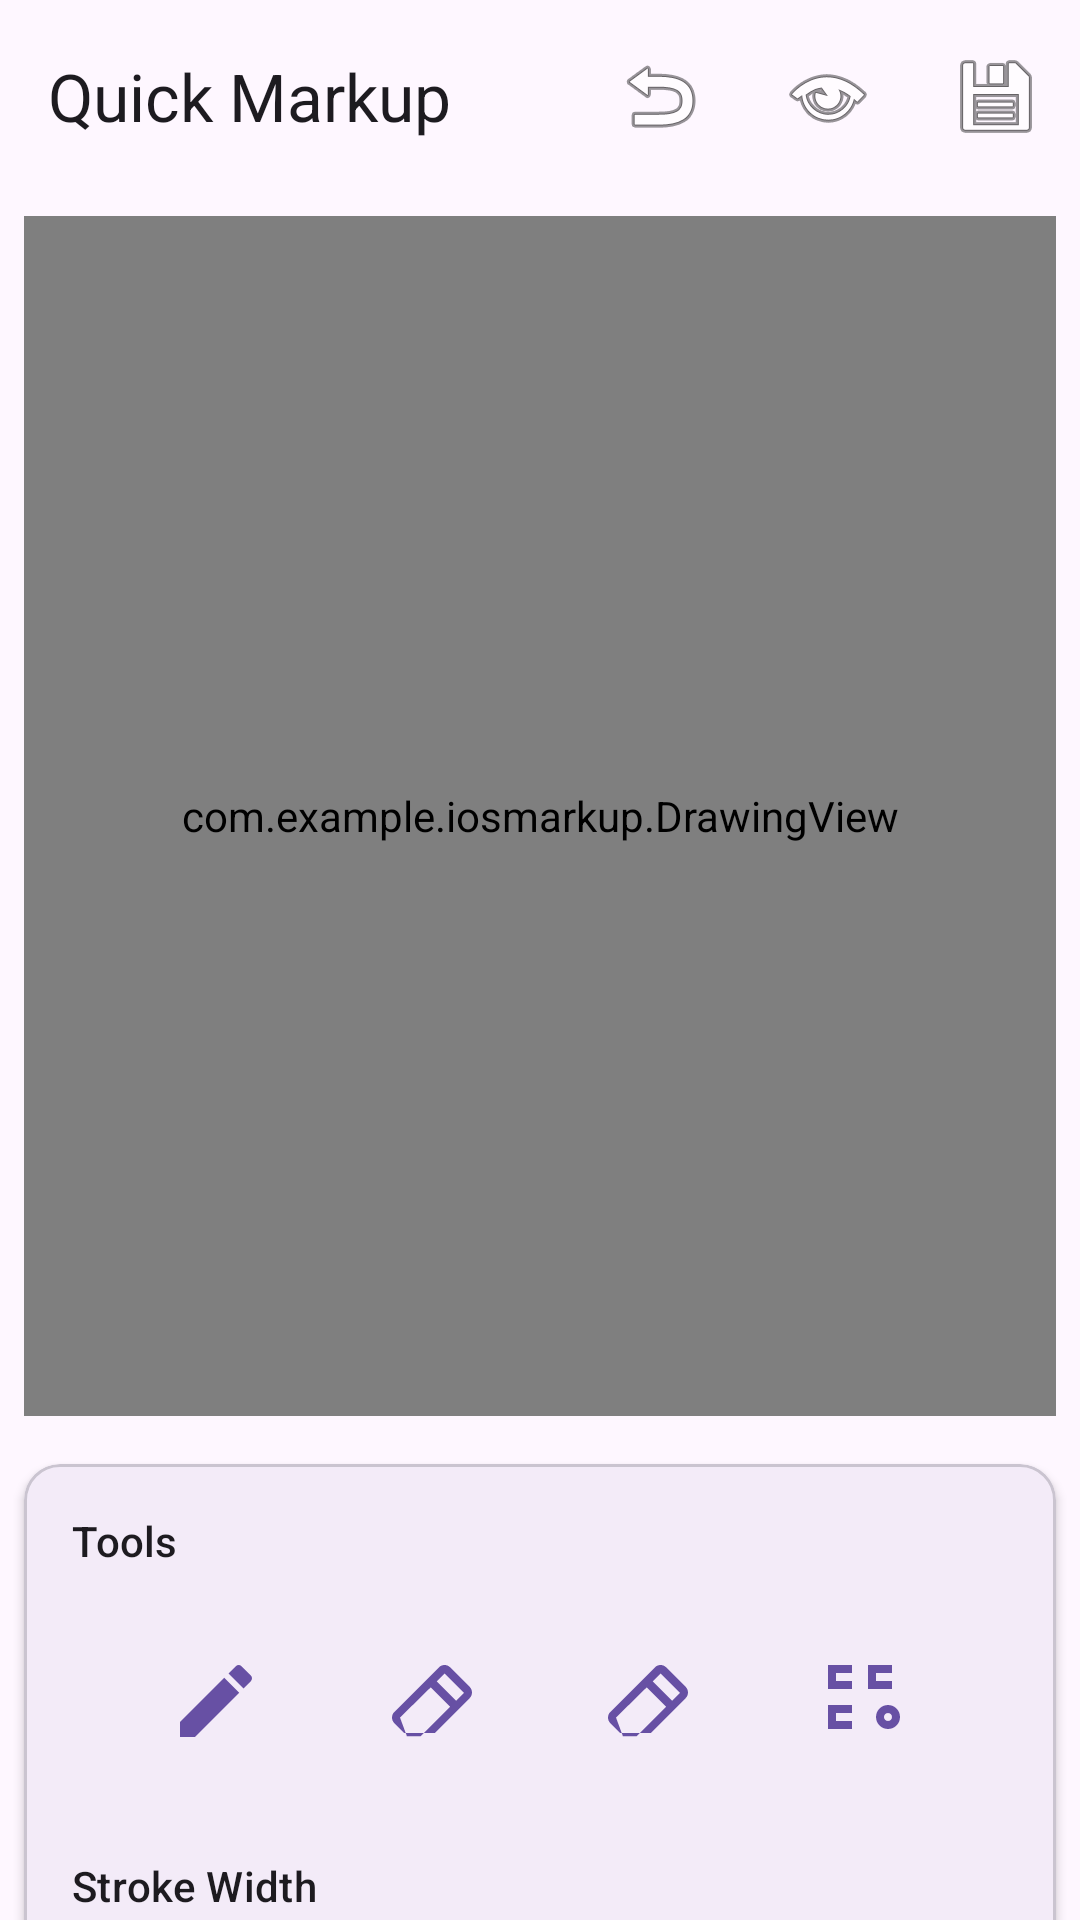

Where icons sit on this 1080×1920 app screen, as [x1,y1,x2,y2]:
tool pen: [180,1665,252,1737]
tool shapes: [828,1665,900,1729]
